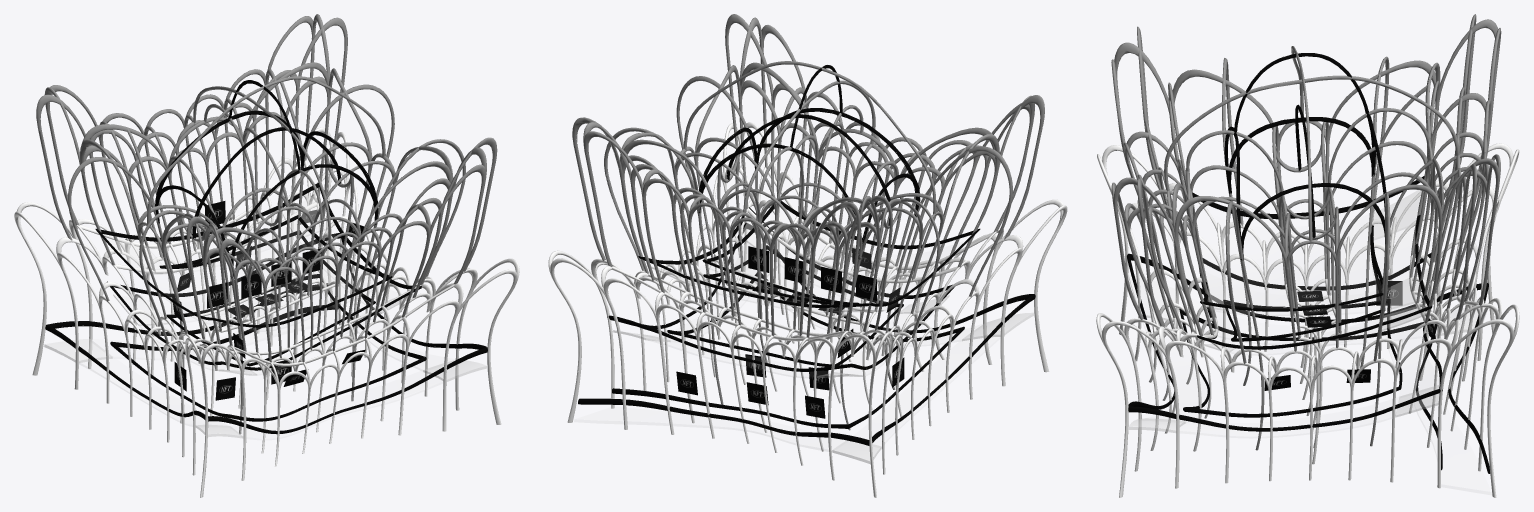
3 views of the same model, side by side, from view 1: azimuth 30°, elevation 25°; view 2: azimuth 150°, elevation 25°; view 3: azimuth 270°, elevation 25° (orthographic). The views are drawn at different scales.
Parts seen in each view (by area): view 1: r2, r1, railing, Corner %43, r3; view 2: r2, r1, railing, r3, Corner %43; view 3: r2, r1, railing, Corner %43, r3, Linear %12.
Boxes of the visible parts, left/top/right/bottom form: r2: left=36, top=14, right=497, bottom=434; r1: left=14, top=127, right=519, bottom=497; railing: left=45, top=183, right=487, bottom=434; Corner %43: left=44, top=195, right=486, bottom=438; r3: left=155, top=80, right=378, bottom=277; r2: left=572, top=14, right=1044, bottom=430; r1: left=548, top=122, right=1067, bottom=497; railing: left=578, top=201, right=1035, bottom=445; r3: left=698, top=65, right=920, bottom=259; Corner %43: left=613, top=221, right=1033, bottom=463; r2: left=1111, top=14, right=1501, bottom=450; r1: left=1096, top=143, right=1519, bottom=497; railing: left=1127, top=176, right=1490, bottom=473; Corner %43: left=1129, top=190, right=1487, bottom=432; r3: left=1224, top=53, right=1386, bottom=260; Linear %12: left=1184, top=286, right=1473, bottom=423.
Bounding box in the file's own units: 32 × 30 × 32.
Materials: 39 (32 with a texture image).
